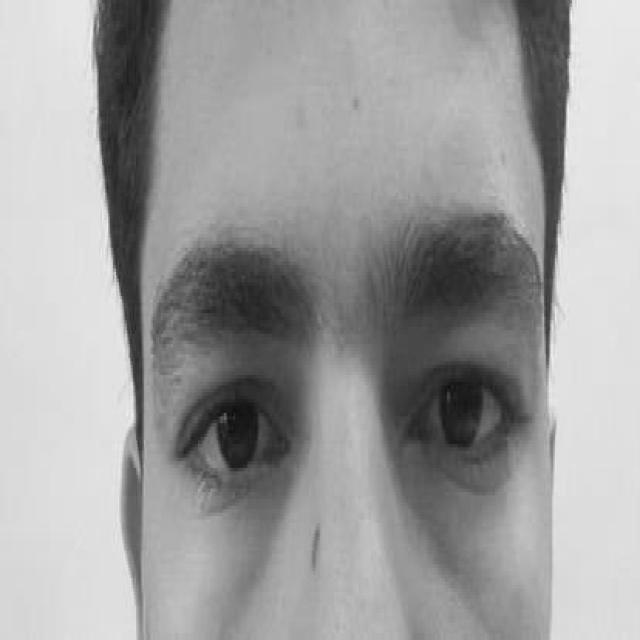real: (158, 296, 544, 548)
